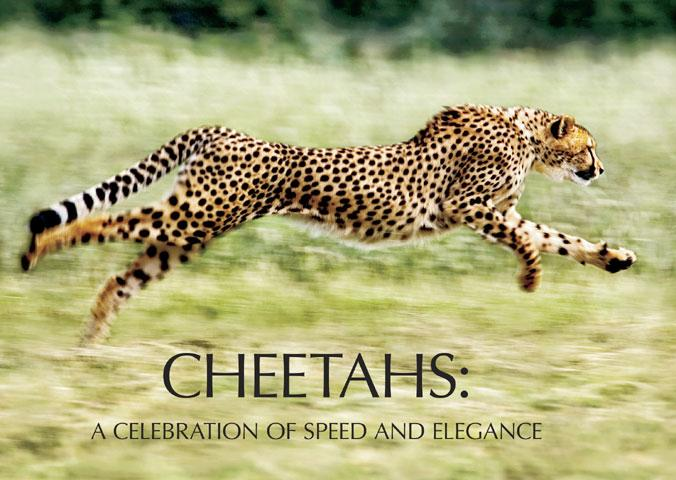cheetah: (542, 102, 618, 191)
